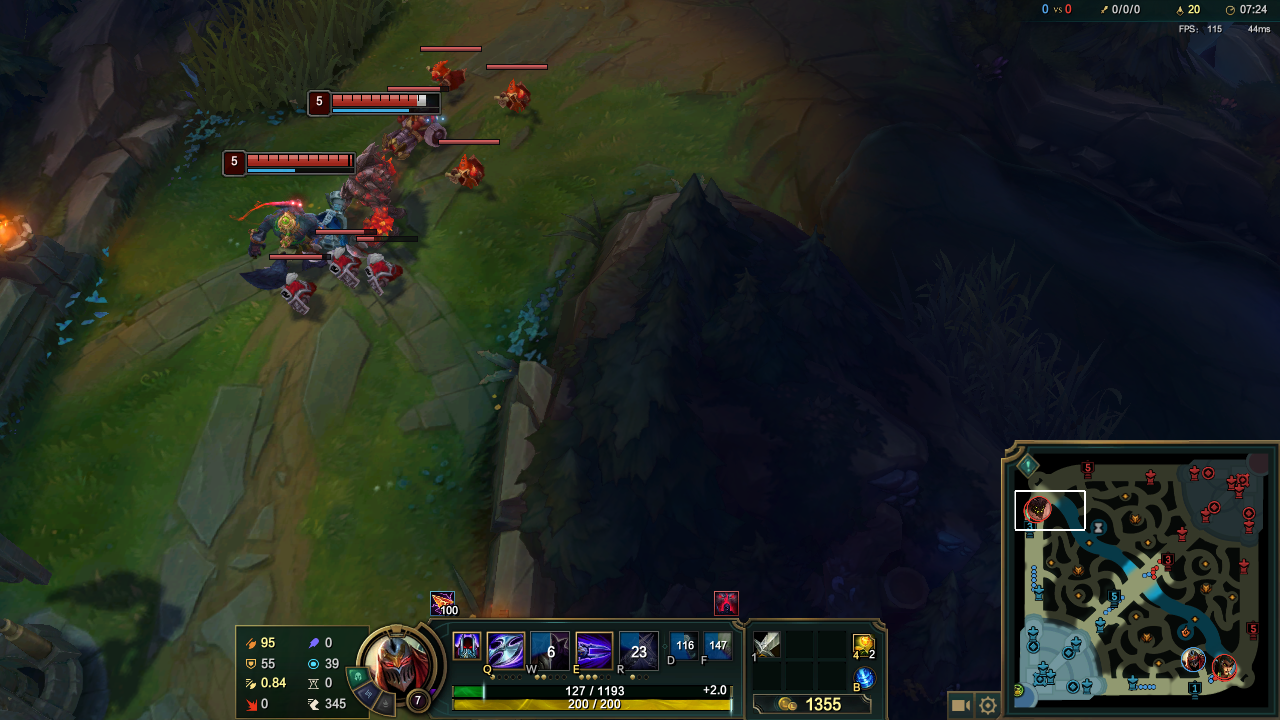DFYX: (248, 153, 355, 174), (331, 94, 441, 113)
